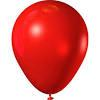red: (12, 0, 88, 99)
